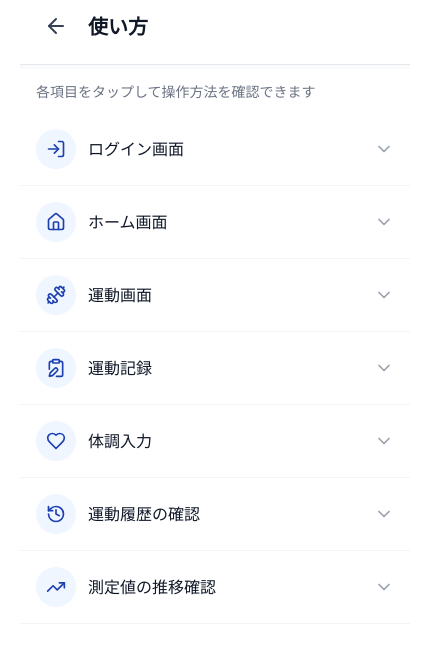
Test: UserGuide（使い方） › accordion interaction › should show home screen section content when expanded
This screenshot has width=431, height=668.
Click the button "ホーム画面" at (56, 222), box [20,186,410,258]
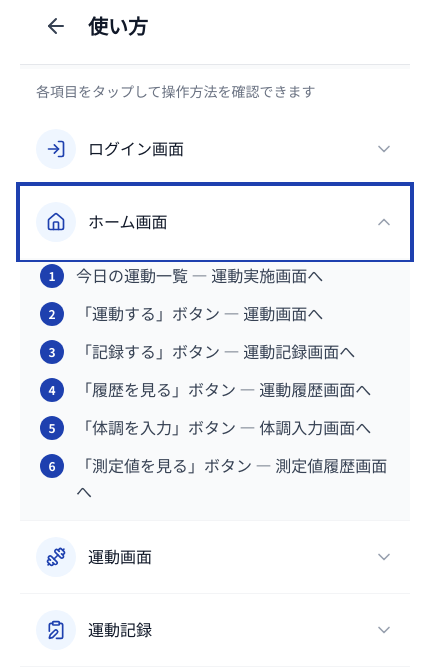
expect the text "今日の運動一覧 — 運動実施画面へ" is shown: met, box [76,262,323,288]
